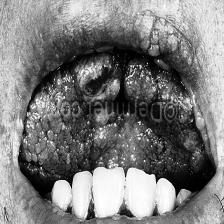Unclassified: (17, 120, 206, 180), (50, 68, 184, 96), (134, 8, 190, 57)
